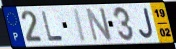2: (20, 9, 44, 44)
3: (112, 5, 135, 43)
I: (72, 8, 88, 44)
J: (138, 7, 155, 40)
L: (40, 10, 65, 42)
N: (85, 7, 114, 44)
